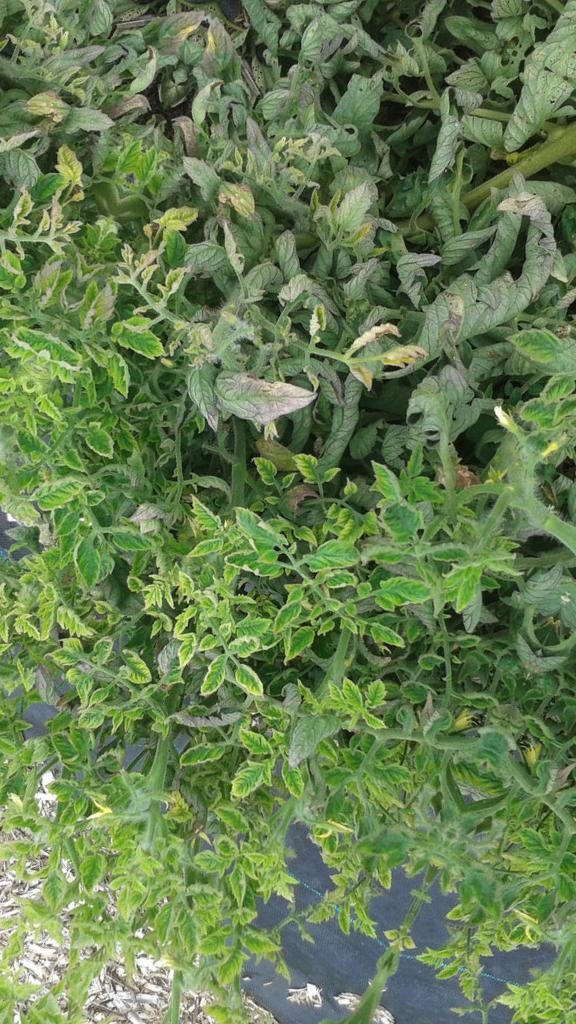Tomato leaf yellow virus: (357, 553, 443, 632), (355, 477, 436, 551), (24, 455, 98, 530), (99, 301, 177, 366), (351, 447, 424, 514), (293, 522, 368, 587), (443, 540, 500, 621), (62, 525, 125, 597), (263, 737, 324, 806), (222, 500, 291, 553), (225, 744, 282, 808), (70, 411, 135, 467), (159, 901, 214, 963), (218, 531, 279, 585), (192, 826, 250, 882), (107, 513, 167, 565), (91, 347, 147, 401), (175, 488, 232, 539), (228, 445, 288, 493), (209, 935, 255, 996), (209, 861, 260, 915), (178, 522, 229, 576), (47, 597, 104, 645), (190, 648, 236, 702), (227, 716, 278, 762), (68, 845, 113, 896), (37, 763, 90, 806), (283, 447, 333, 491), (266, 588, 310, 638), (278, 621, 320, 673), (329, 671, 377, 715), (211, 798, 262, 838), (115, 644, 160, 689), (219, 620, 264, 665), (227, 655, 275, 697), (166, 627, 207, 674), (72, 696, 110, 736), (0, 673, 14, 753)
